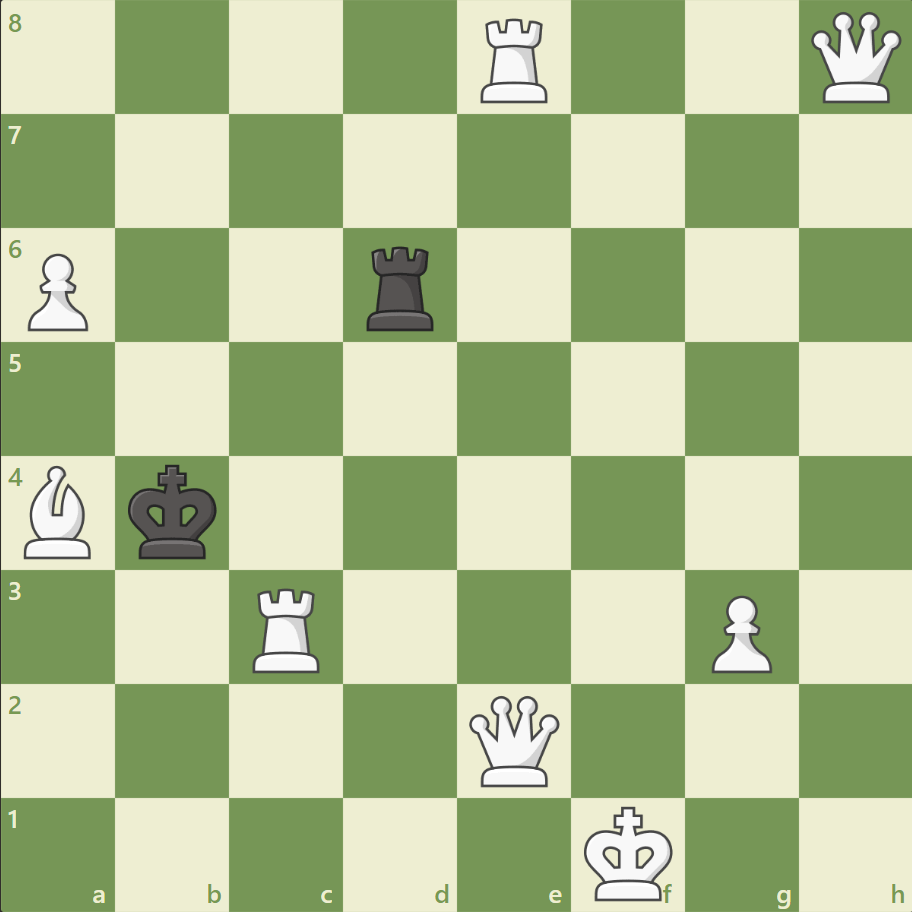B: (17, 460, 101, 563)
K: (579, 798, 679, 906)
P: (20, 246, 95, 337), (701, 586, 776, 677)
Q: (805, 9, 904, 108), (464, 690, 563, 789)
R: (473, 12, 556, 109), (246, 579, 329, 676)
k: (124, 458, 224, 566)
r: (360, 239, 442, 336)
